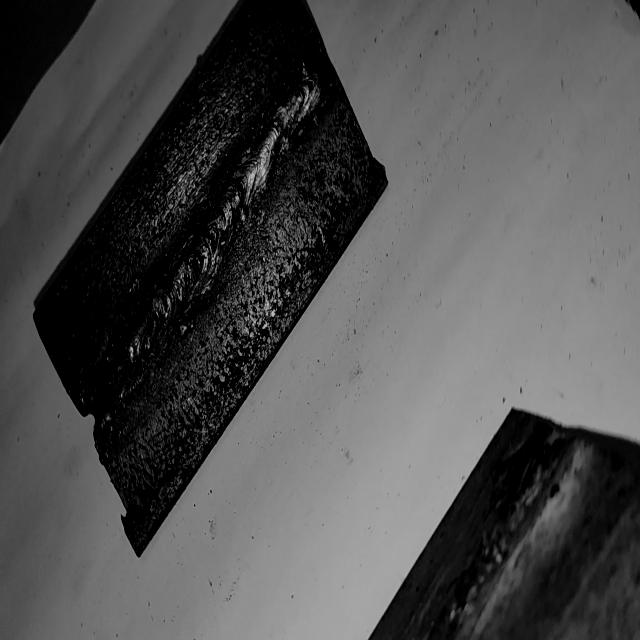Bad Weld: (83, 61, 328, 438)
Defect: (75, 308, 190, 448)
